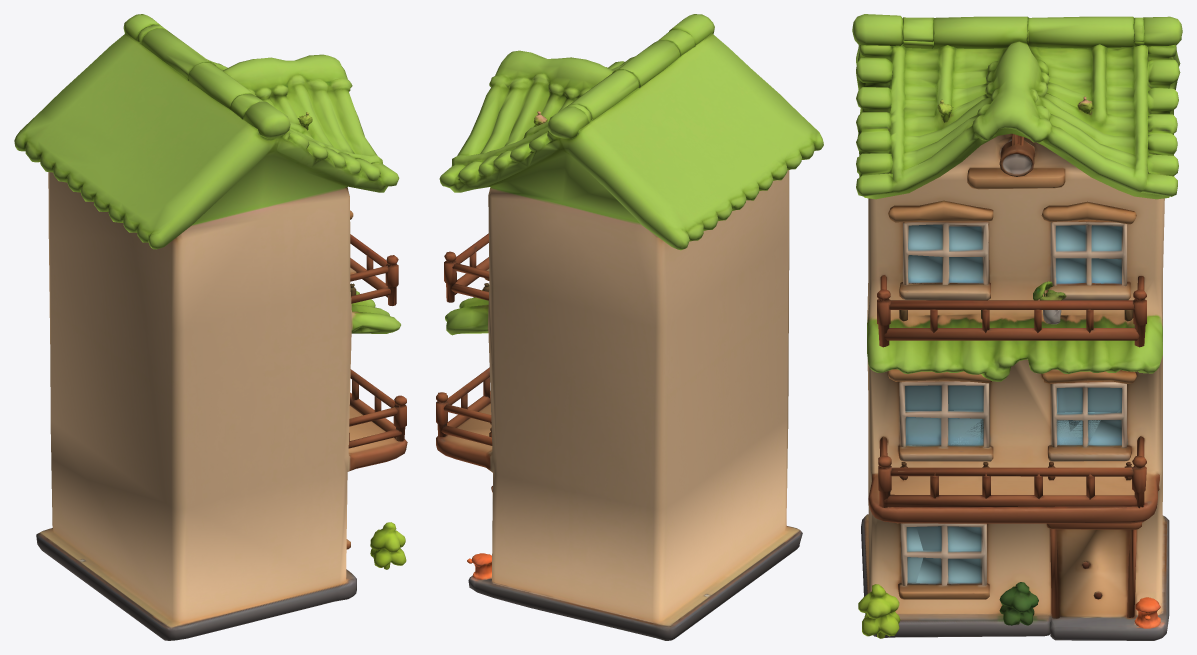
File: townhouse.glb
3 views of the same model, side by side, from view 1: azimuth 30°, elevation 25°; view 2: azimuth 150°, elevation 25°; view 3: azimuth 270°, elevation 25° (orthographic). The views are drawn at different scales.
Visible parts, largest first — view 1: tripo_node_78878a18-5a63-4280-a2ea-24e5b28869ee; view 2: tripo_node_78878a18-5a63-4280-a2ea-24e5b28869ee; view 3: tripo_node_78878a18-5a63-4280-a2ea-24e5b28869ee.
Boxes of the visible parts, <box> form: tripo_node_78878a18-5a63-4280-a2ea-24e5b28869ee: <box>14,14,407,640</box>; tripo_node_78878a18-5a63-4280-a2ea-24e5b28869ee: <box>436,14,823,640</box>; tripo_node_78878a18-5a63-4280-a2ea-24e5b28869ee: <box>852,14,1182,640</box>.
Size of the model in its own units: 0.5527 by 0.998 by 0.5215.
Materials: 1 (1 with a texture image).
